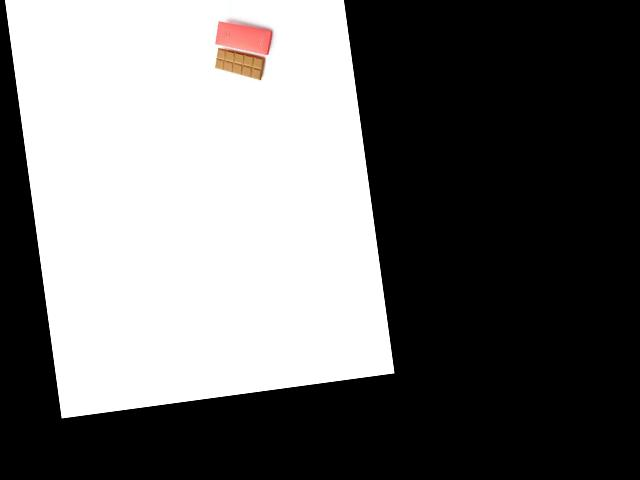chocolate: (211, 39, 270, 85)
